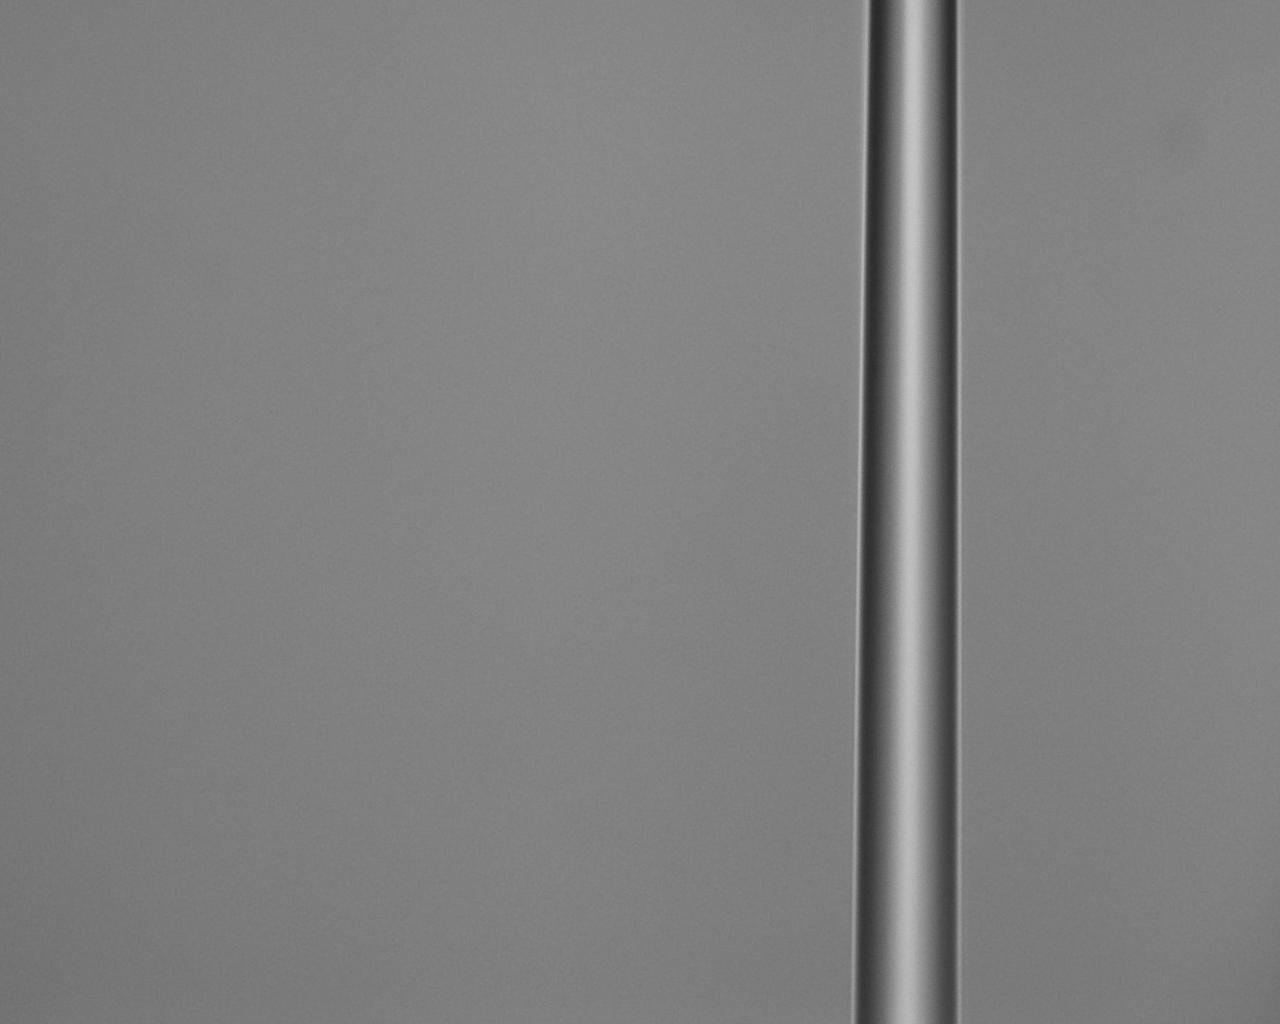fiber: (0, 462, 652, 880), (820, 389, 1097, 1024)
